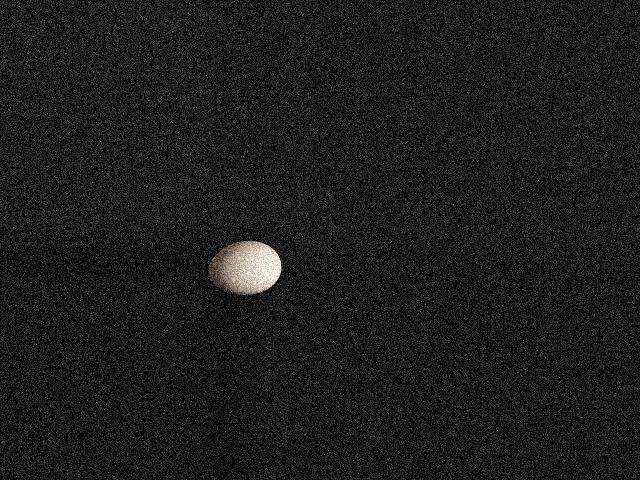egg: (209, 241, 282, 294)
